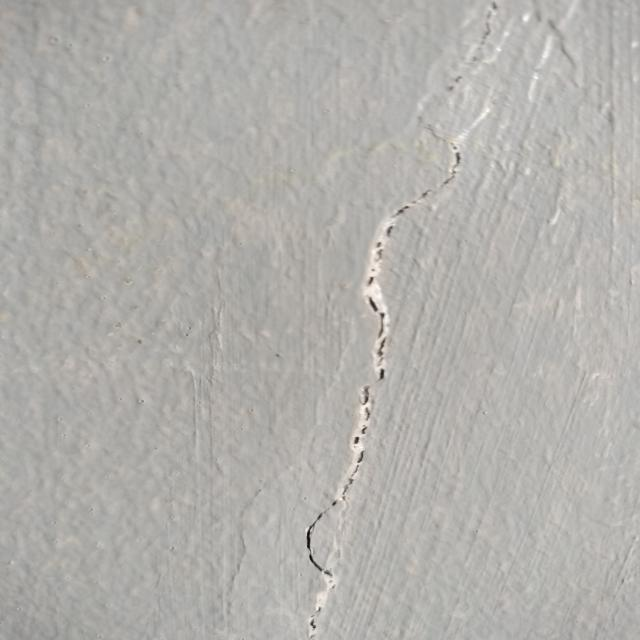Crack: (292, 7, 460, 573)
